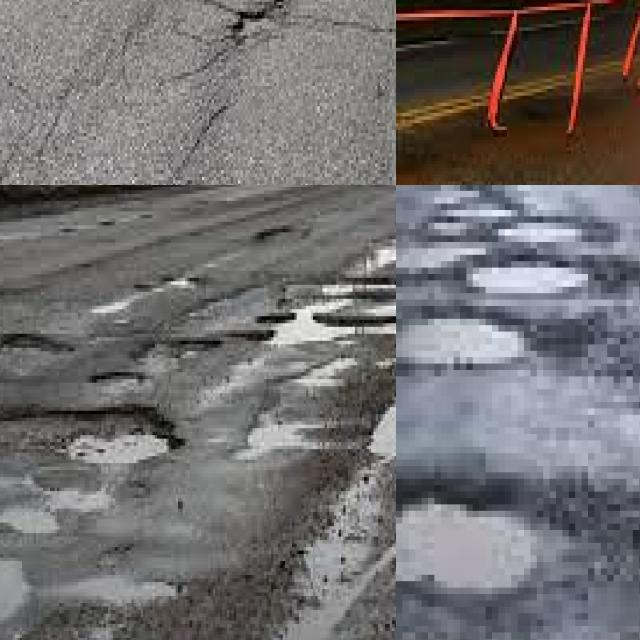Pothole: (396, 479, 575, 588), (428, 185, 588, 300), (168, 0, 340, 76), (20, 435, 166, 523), (290, 278, 396, 344), (396, 319, 524, 364), (315, 313, 396, 341), (0, 334, 69, 355), (246, 421, 283, 446), (152, 274, 194, 295), (94, 369, 145, 383), (148, 337, 180, 358), (378, 229, 396, 264)
